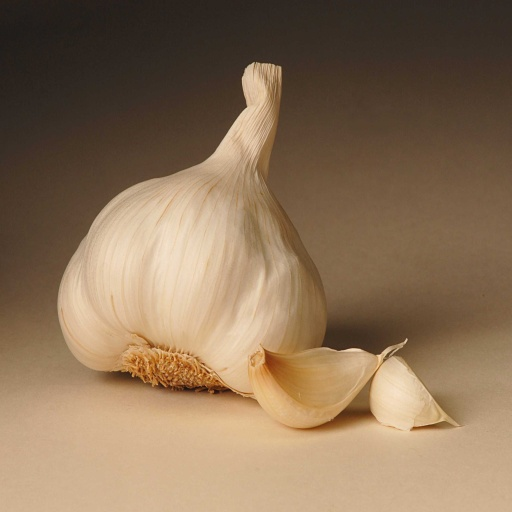Knoblauch: (57, 62, 329, 397)
